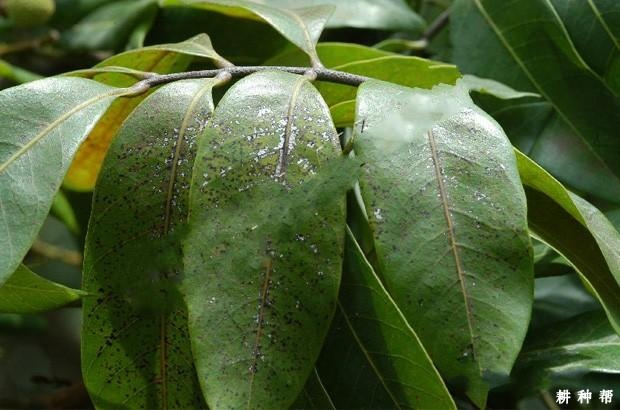Frost_Blight: (124, 77, 491, 397)
